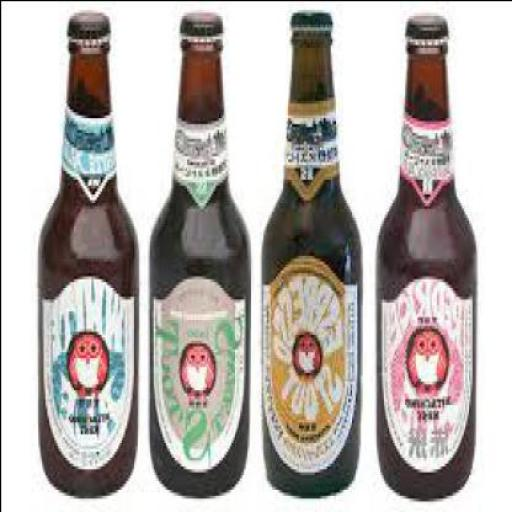glass: (374, 41, 480, 497), (150, 35, 252, 494), (264, 26, 364, 492), (39, 30, 138, 494)
metal: (69, 8, 109, 36), (407, 14, 448, 41), (183, 9, 223, 32), (292, 8, 336, 24)
